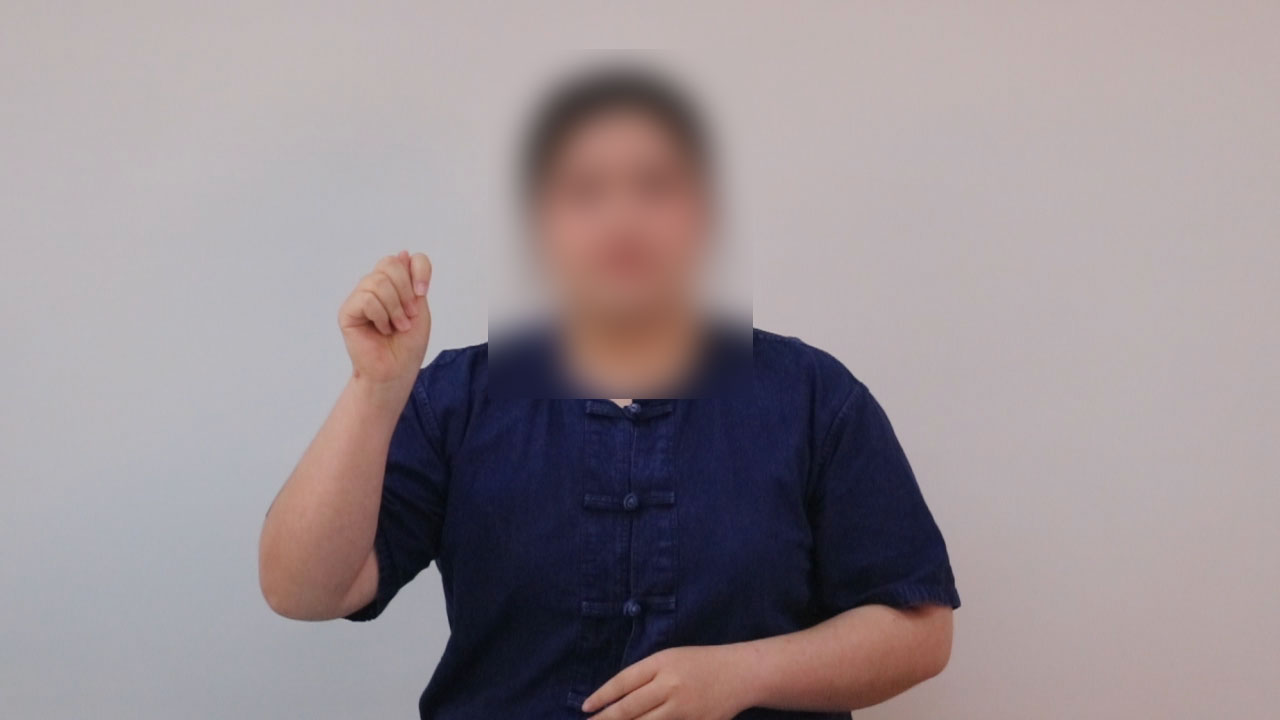tor: (312, 234, 469, 403)
